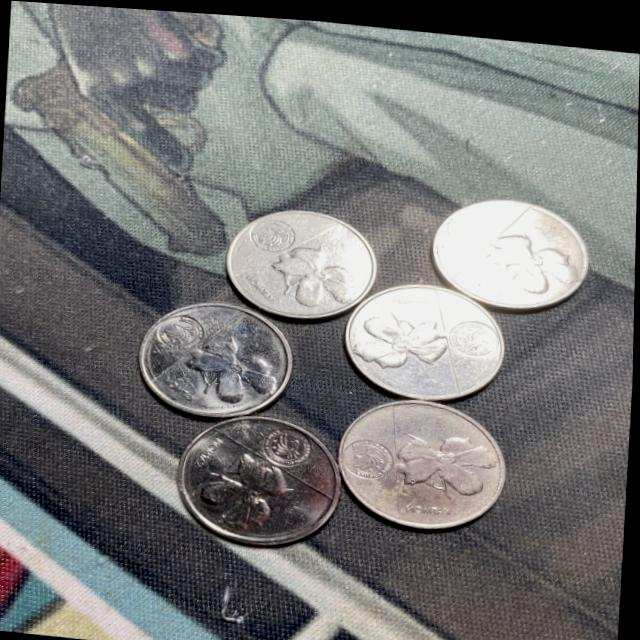25Cent_New_Back: (339, 291, 474, 396), (388, 412, 504, 529), (177, 443, 301, 541), (179, 311, 293, 415), (275, 238, 373, 318)
